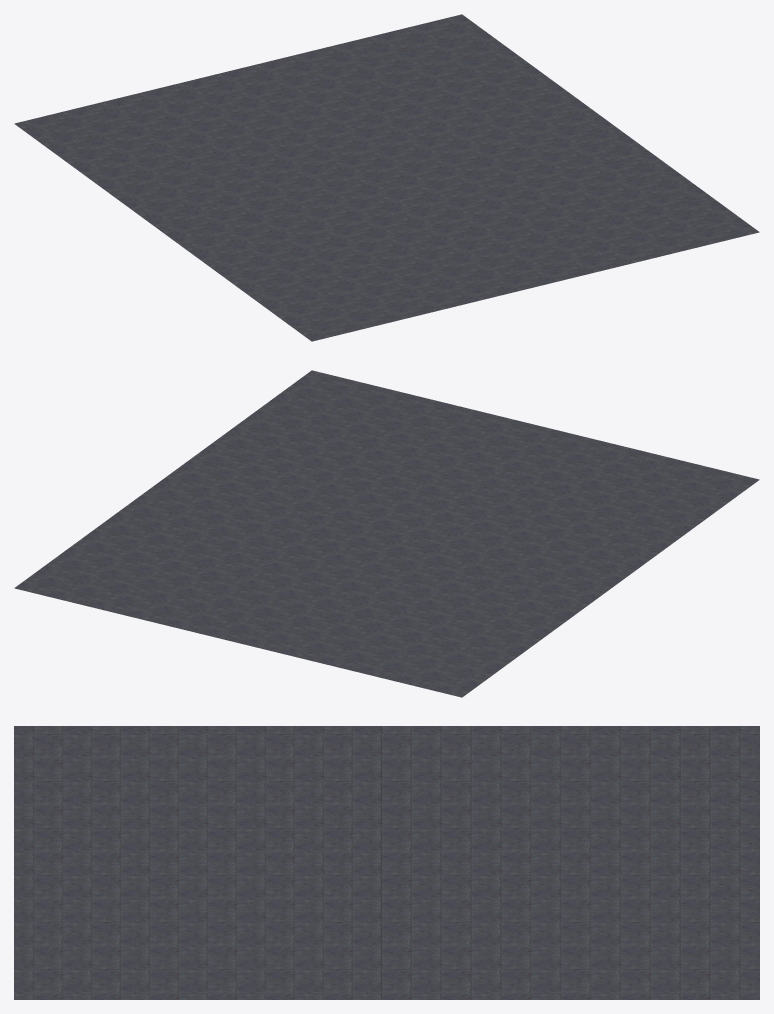
Rendered from Map02_Ground.FBX.
3 renders of one model, top to bottom at view 1: azimuth 30°, elevation 25°; view 2: azimuth 150°, elevation 25°; view 3: azimuth 270°, elevation 25°, orthographic. The views are drawn at different scales.
Parts seen in each view (by area): view 1: Map02_Ground; view 2: Map02_Ground; view 3: Map02_Ground.
Boxes of the visible parts, box(x1,y1,x2,y2) form: Map02_Ground: box(14, 14, 759, 341); Map02_Ground: box(14, 370, 759, 697); Map02_Ground: box(14, 726, 759, 999).
Size of the model in its own units: 1666 by 1.17e-13 by 1918.
